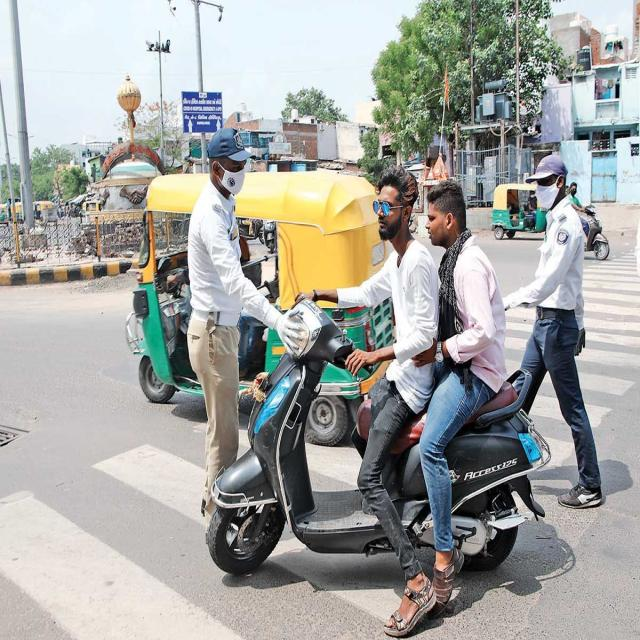autorickshaw: (125, 175, 208, 402), (491, 183, 546, 239)
motorcycle: (208, 167, 550, 638)
